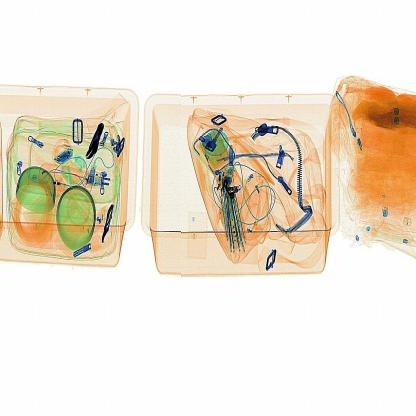knife: (78, 120, 115, 166)
